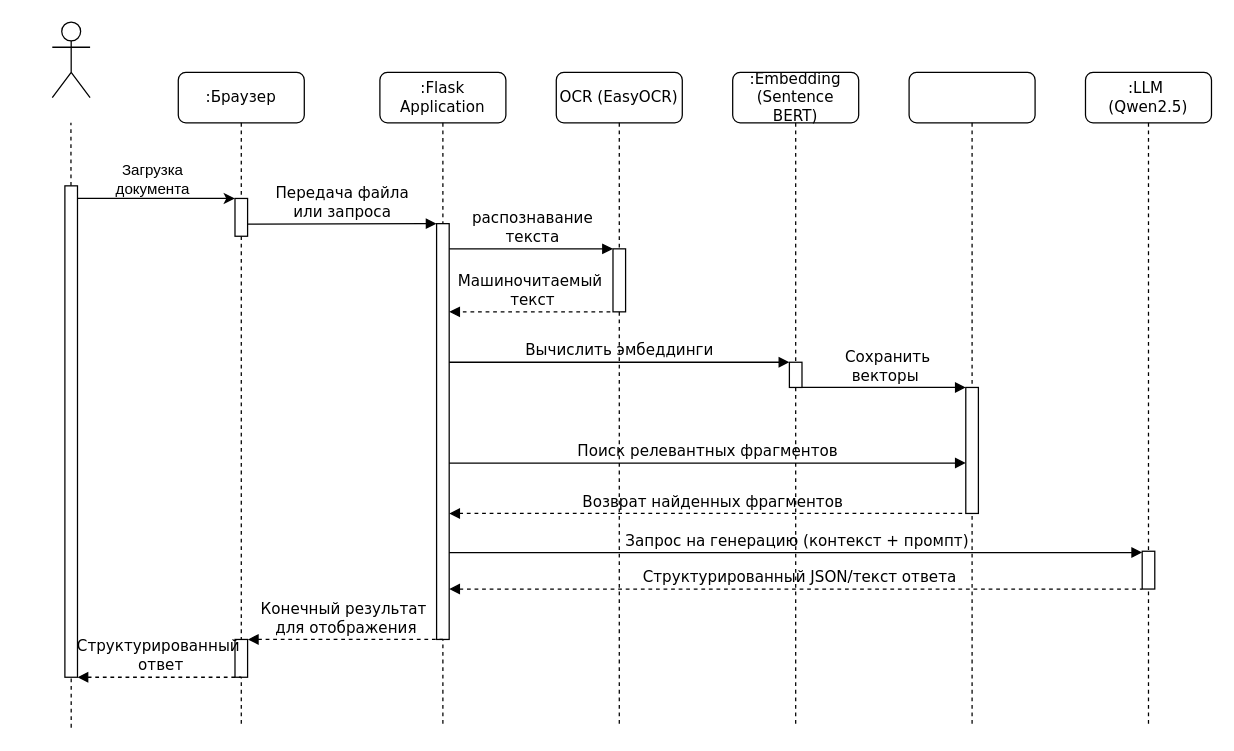
This 1234x751 diagram has some shape labels left out. The centre of each missing label's shape, as x and y in pixels:
:Vector DB (PostgreSQL +pgvector): the point at 971,399
Пользователь: the point at 70,59
